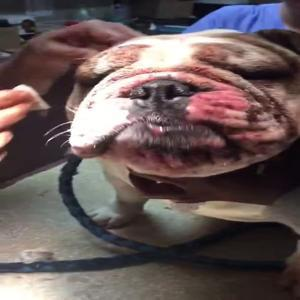skin_lesions: (177, 70, 260, 141)
